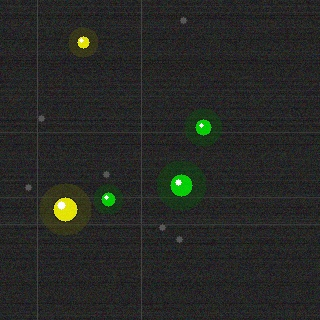green_normal: (168, 172, 194, 198), (193, 117, 213, 137), (99, 190, 117, 208)
yellow_warning: (51, 195, 79, 223), (75, 34, 91, 50)
